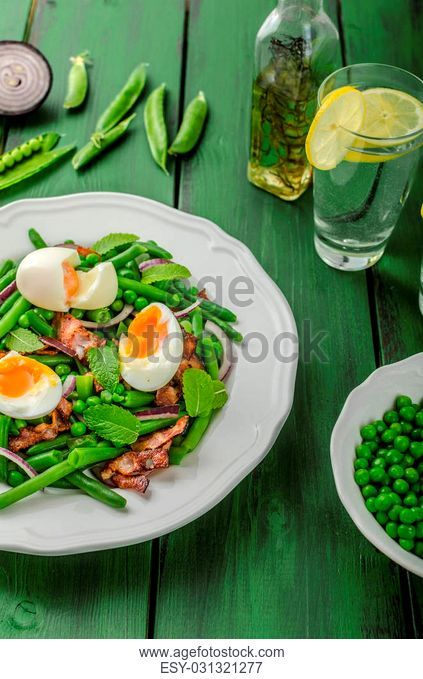chopped lettuce: (386, 420, 419, 536)
fried egg: (128, 306, 169, 387), (32, 261, 104, 307), (4, 359, 55, 411)
glass of water: (323, 85, 381, 275)
